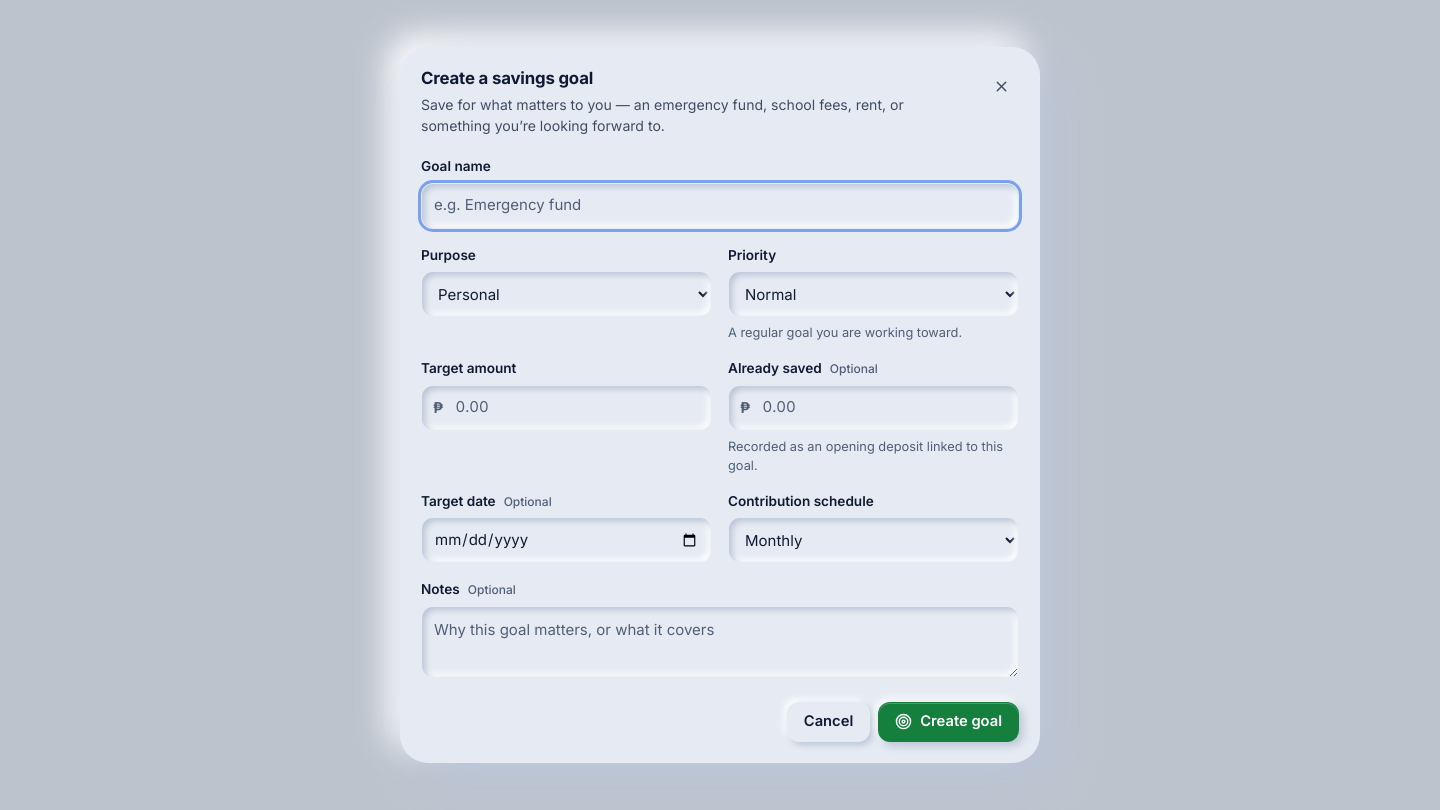
it: GoalModal › keeps the entered values and shows the server’s reason inline when the request is rejected
Type "Laptop" into the field labelled "Goal name" at (720, 206), box [421,183,1019,229]
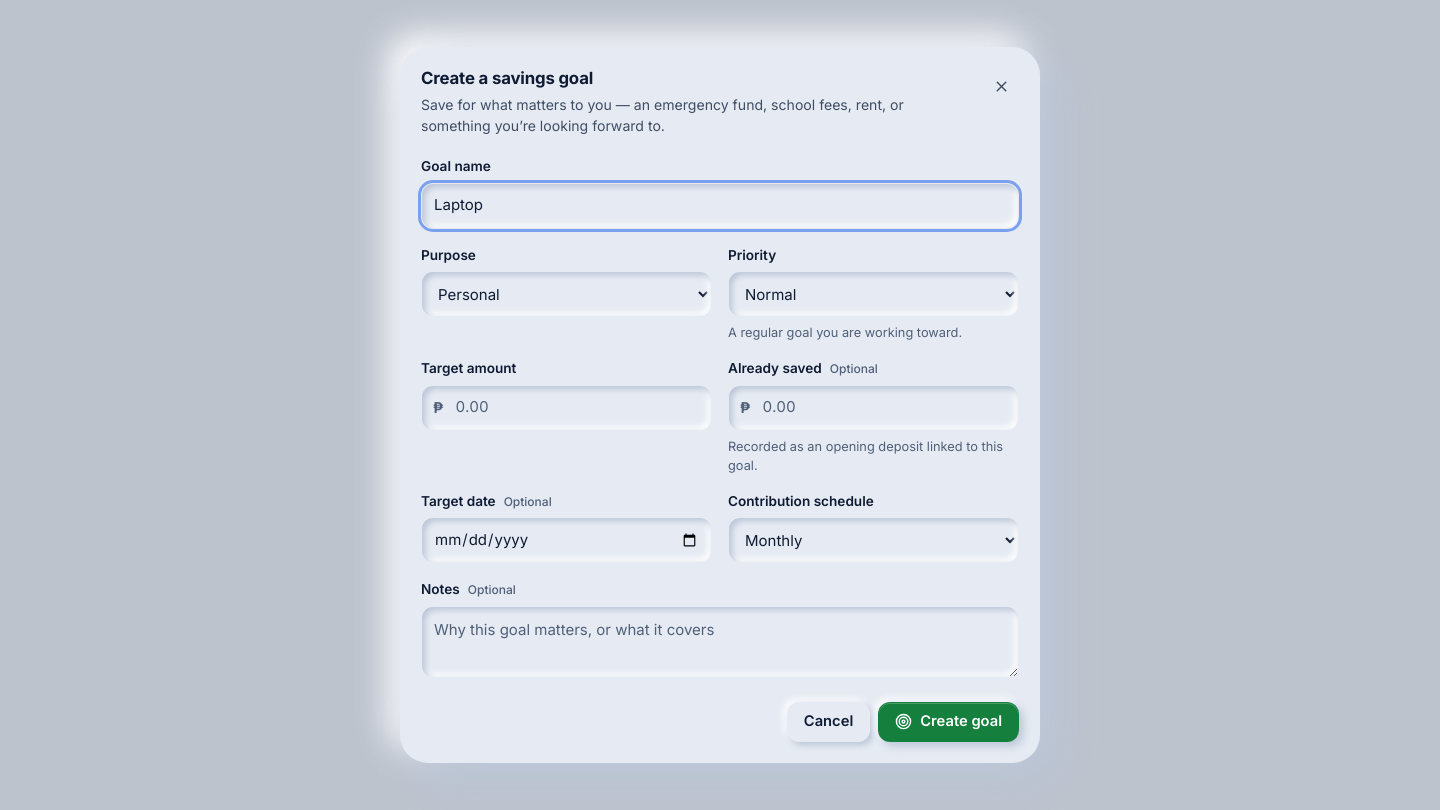
Type "50000" into the number field labelled "Target amount" at (566, 408), box [421,385,712,431]
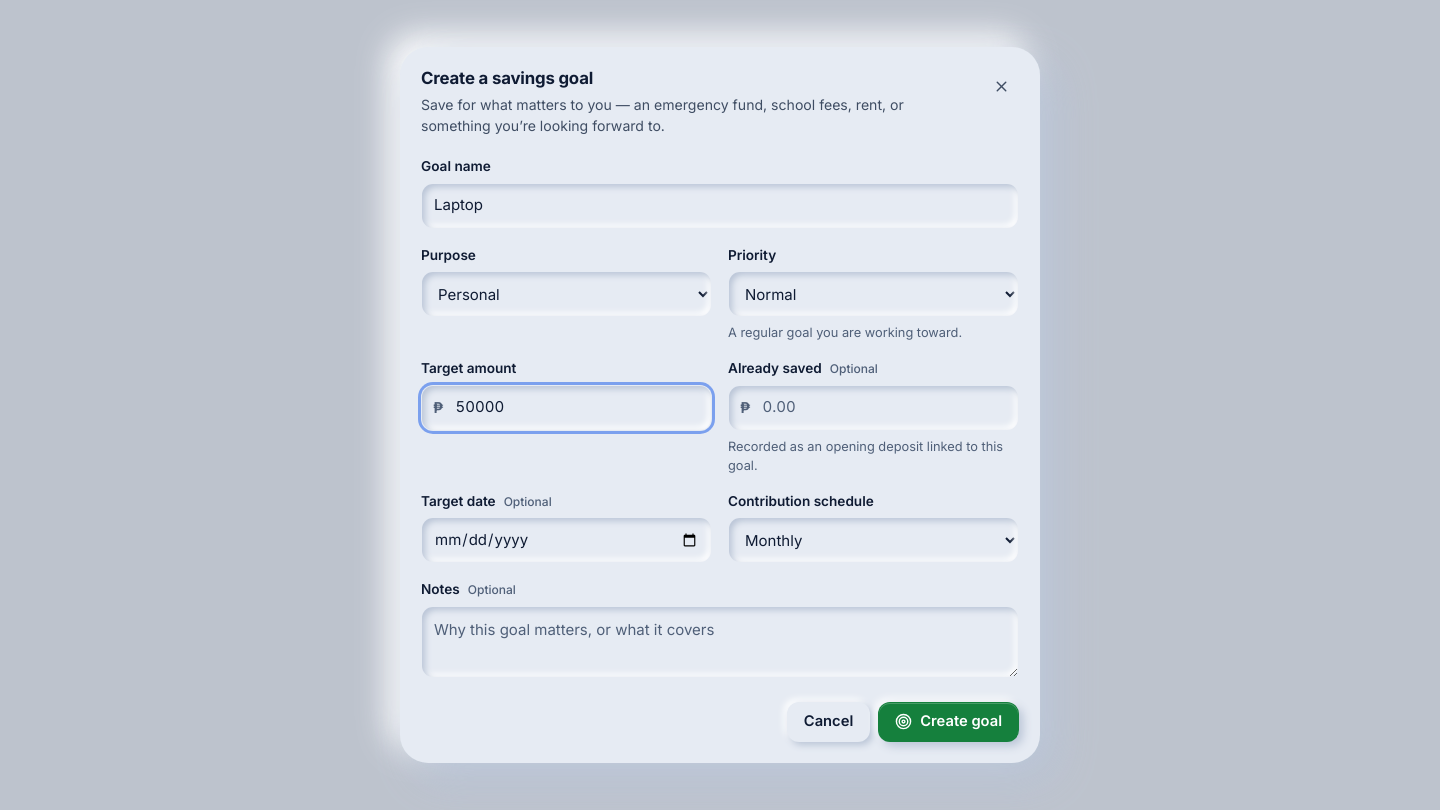
Click the button "Create goal" at (949, 722), box [878,702,1019,742]
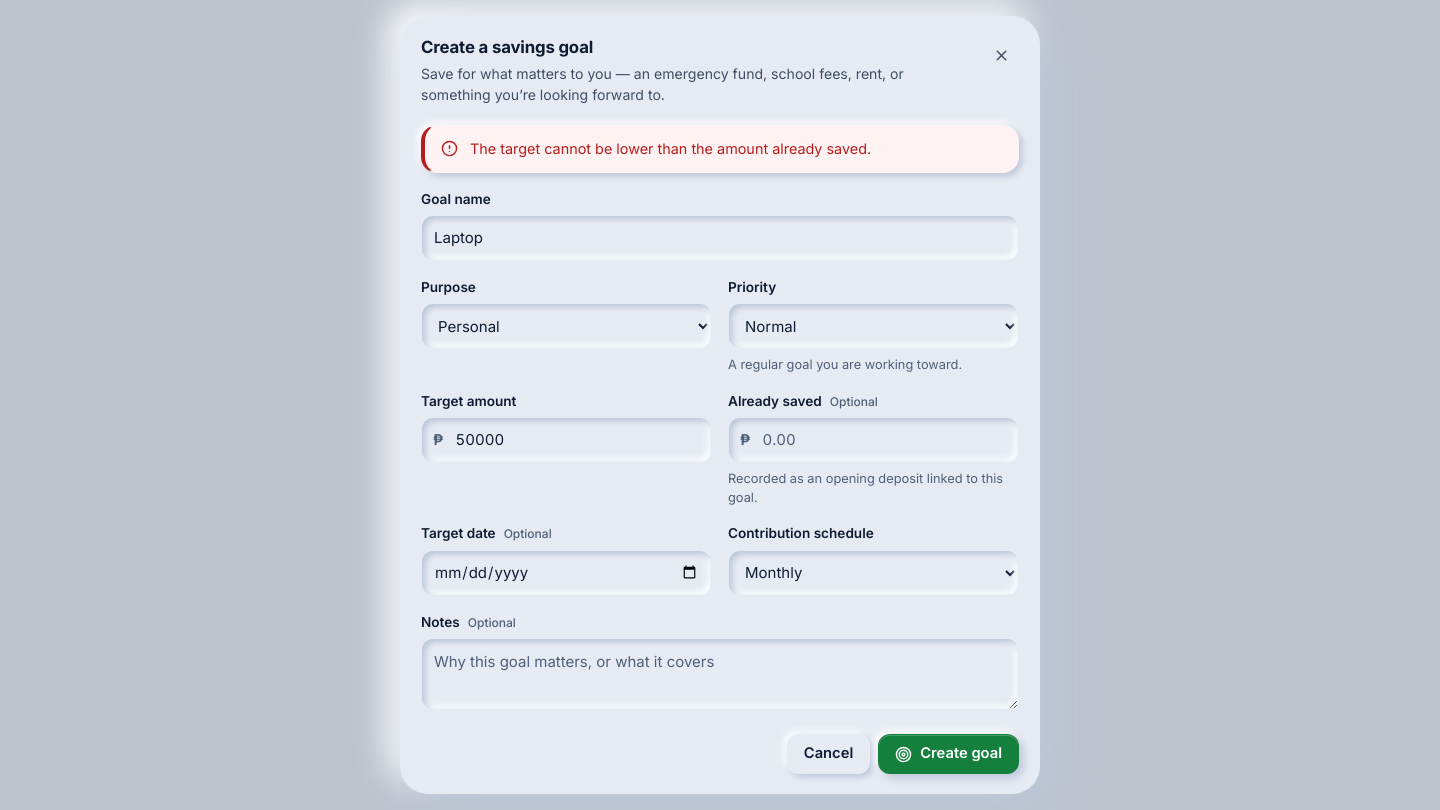
Expected: the button "Create goal" is enabled, [878,734,1019,774]
Expected: the text "The target cannot be lower than the amount already saved." is shown, [470,138,871,160]
